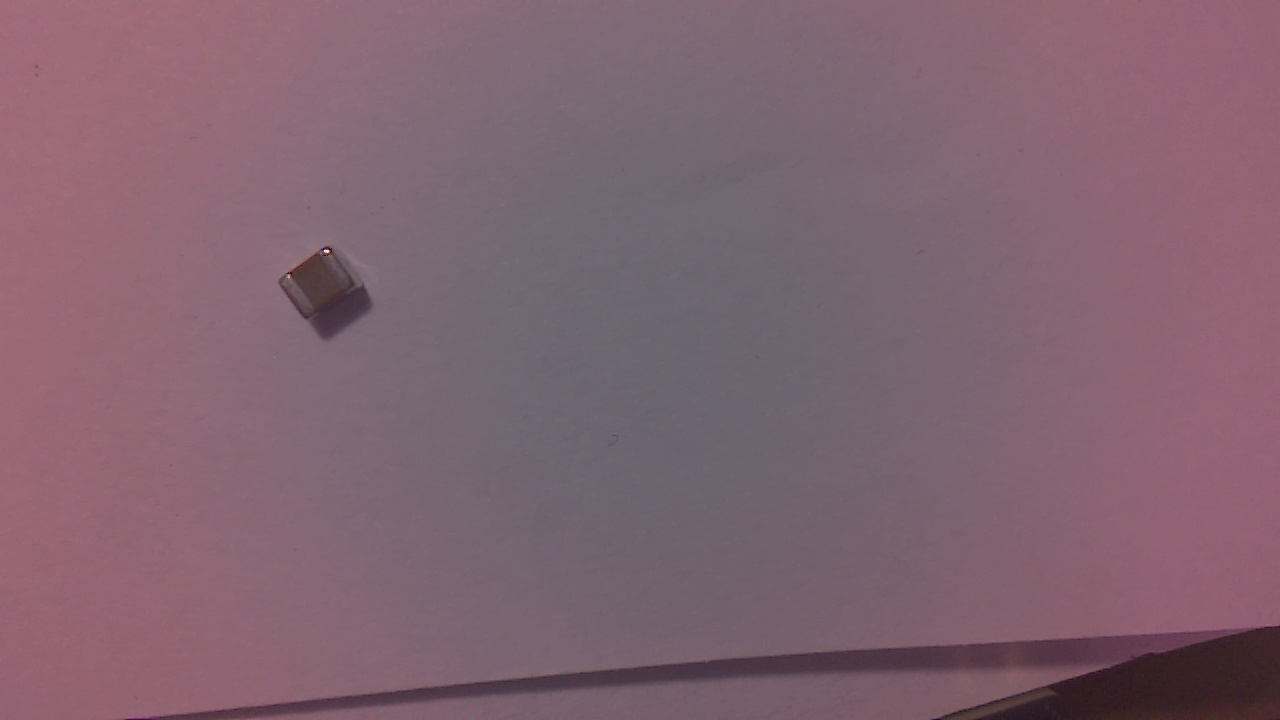Condensator: (284, 247, 367, 330)
